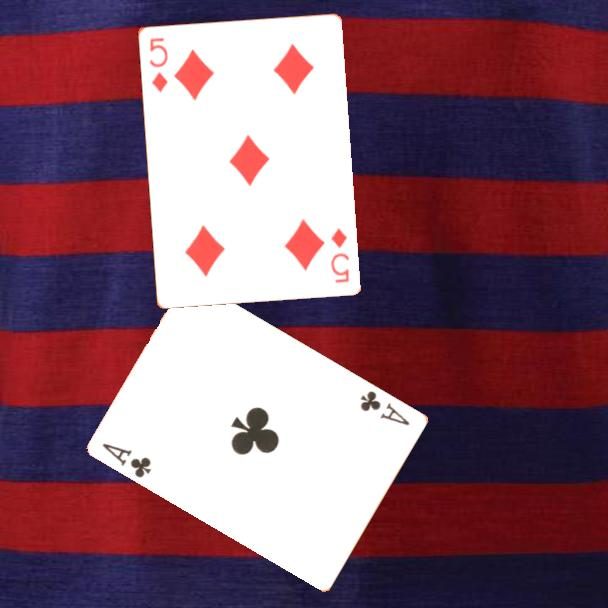c01: (99, 439, 154, 481), (357, 387, 413, 428)
d05: (145, 34, 170, 95), (327, 224, 352, 285)
